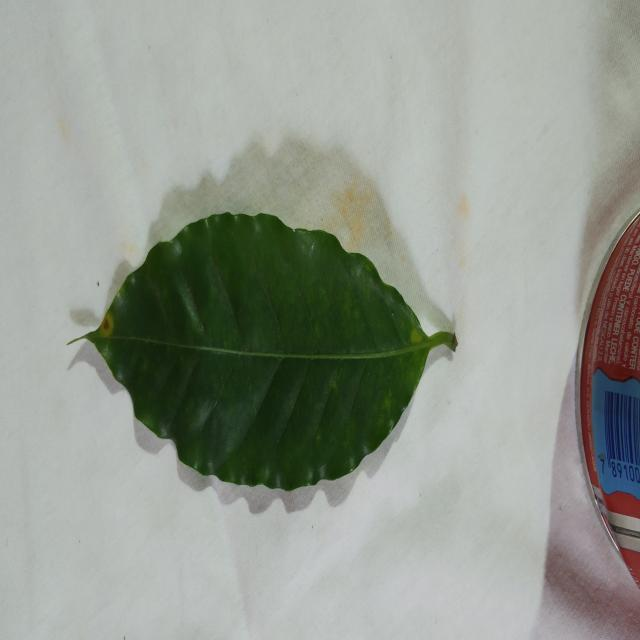Enfermedad-Roya: (76, 213, 457, 494)
